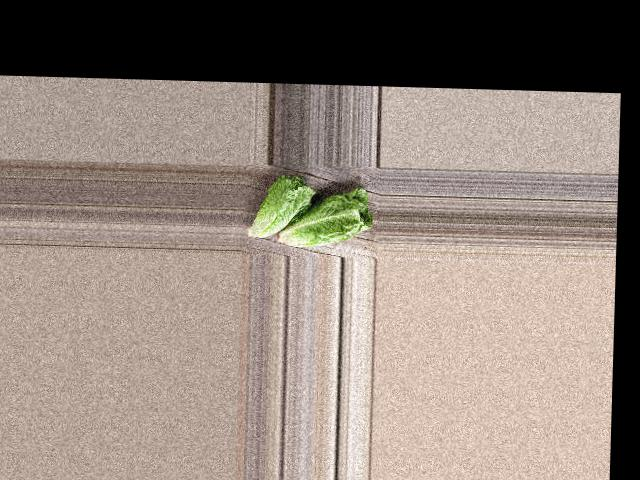lettuce: (243, 168, 317, 242)
